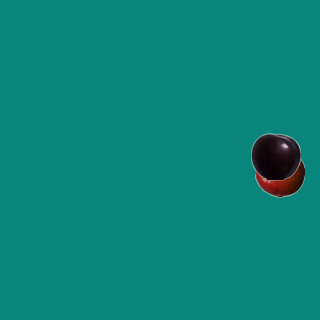Apple Braeburn: (254, 147, 304, 197)
Cherry Wax Black: (250, 131, 300, 181)
